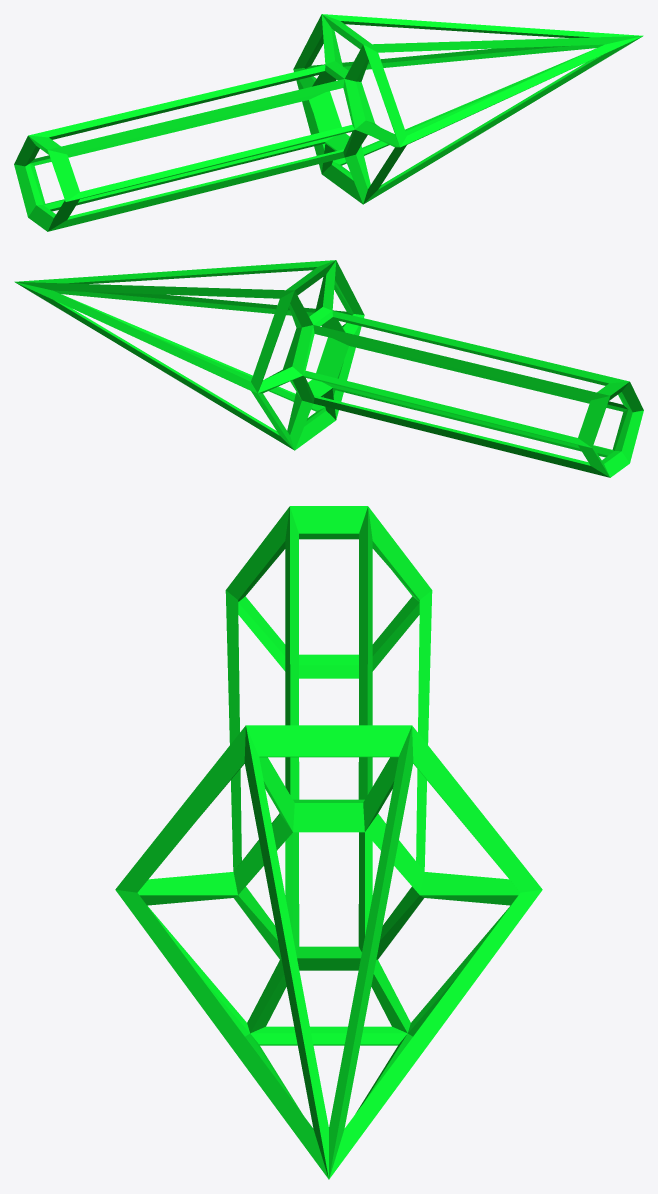
File: back.fbx
3 renders of one model, top to bottom at view 1: azimuth 30°, elevation 25°; view 2: azimuth 150°, elevation 25°; view 3: azimuth 270°, elevation 25°, orthographic. The views are drawn at different scales.
Parts seen in each view (by area): view 1: Cube; view 2: Cube; view 3: Cube.
Boxes of the visible parts, bbox=[...] form: Cube: bbox=[14, 14, 643, 231]; Cube: bbox=[14, 260, 643, 477]; Cube: bbox=[115, 506, 542, 1179].
Size of the model in its own units: 1117 by 282 by 341.
